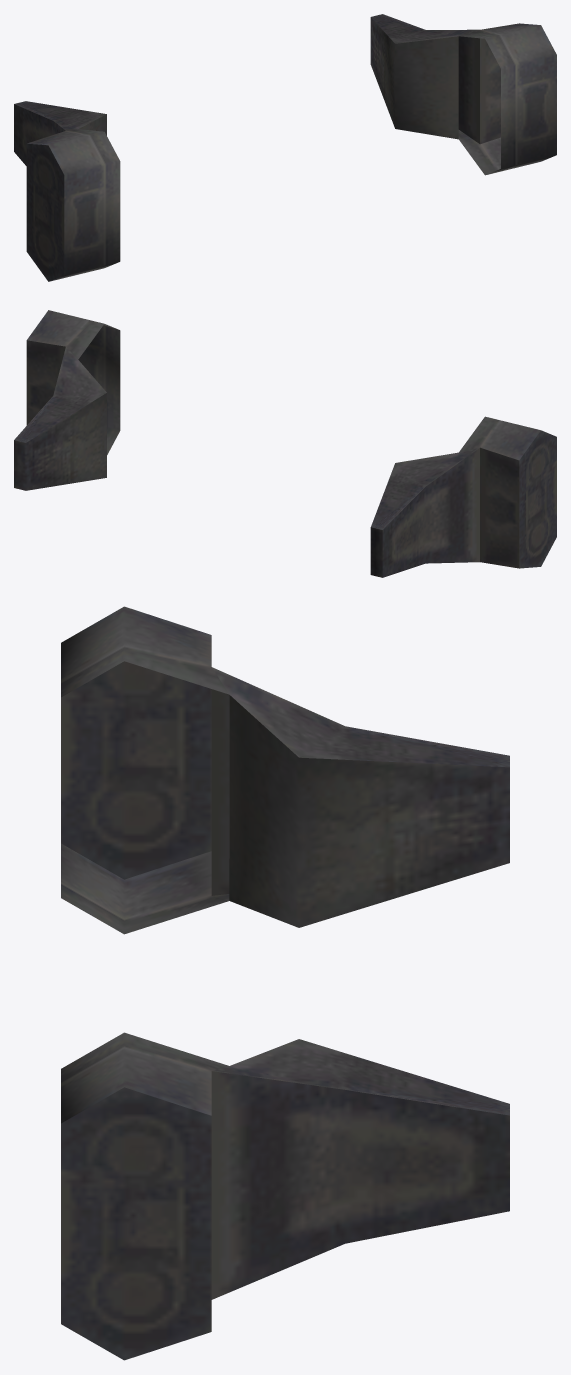
3 renders of one model, top to bottom at view 1: azimuth 30°, elevation 25°; view 2: azimuth 150°, elevation 25°; view 3: azimuth 270°, elevation 25°, orthographic. The views are drawn at different scales.
Parts seen in each view (by area): view 1: set_0_group_0; view 2: set_0_group_0; view 3: set_0_group_0.
Part boxes in pixels (left/top/right/bottom): set_0_group_0: left=14, top=14, right=556, bottom=281; set_0_group_0: left=14, top=310, right=556, bottom=577; set_0_group_0: left=61, top=606, right=509, bottom=1360.
Size of the model in its own units: 0.4235 by 0.1122 by 0.1672.
Materials: 1 (1 with a texture image).
